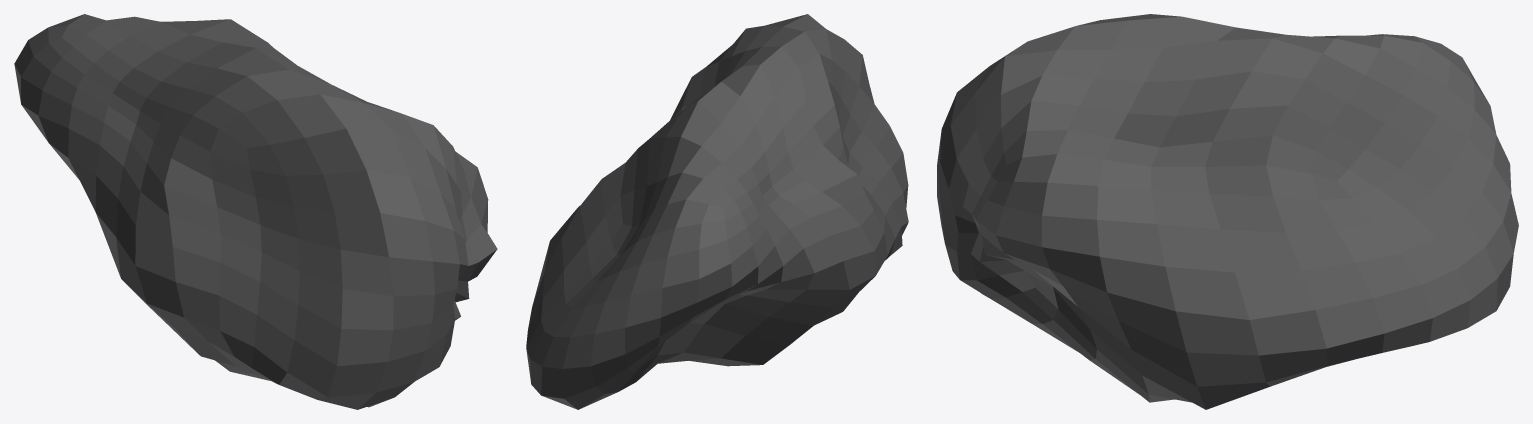
File: rock2.fbx
The picture shows the model from 3 angles, left to right: view 1: azimuth 30°, elevation 25°; view 2: azimuth 150°, elevation 25°; view 3: azimuth 270°, elevation 25°; orthographic projection. The views are drawn at different scales.
Visible parts, largest first — view 1: rock2; view 2: rock2; view 3: rock2.
Part boxes in pixels (x1,y1,x2,y2): rock2: [14, 14, 497, 409]; rock2: [526, 14, 908, 409]; rock2: [937, 14, 1518, 409].
Size of the model in its own units: 155 by 163 by 253.
